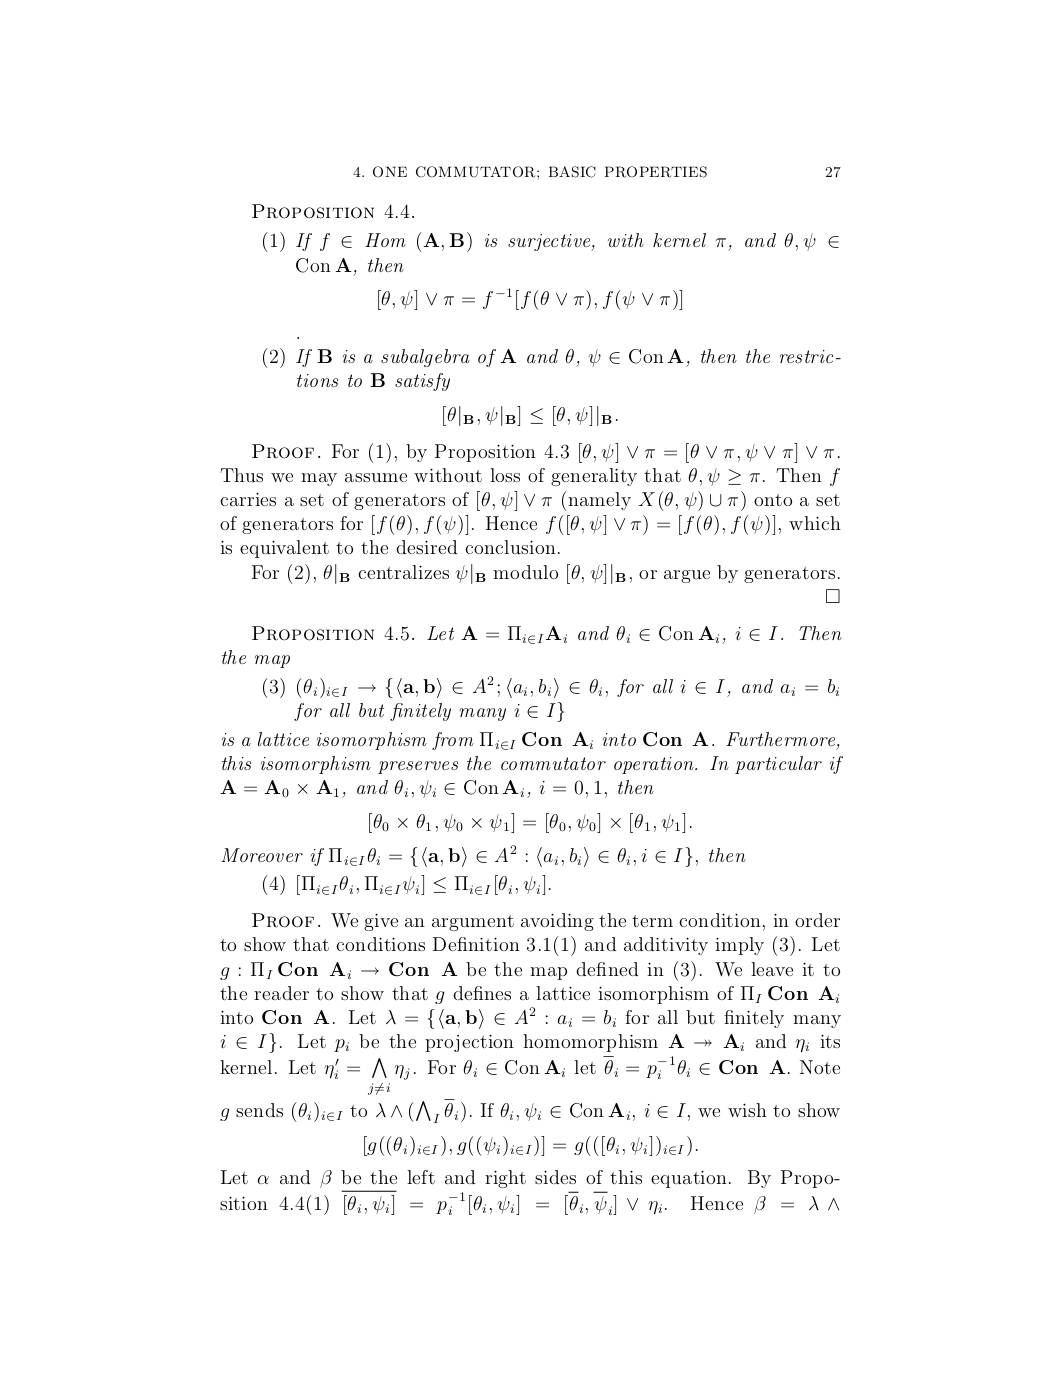formula: (220, 779, 653, 798), (364, 1135, 697, 1156), (378, 288, 682, 310), (369, 812, 691, 832), (263, 874, 549, 895), (442, 405, 617, 426)
